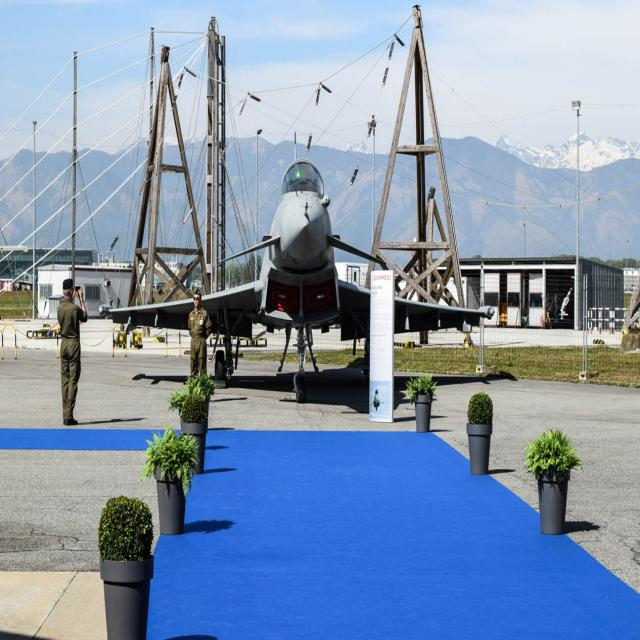MIL_Plane: (97, 130, 495, 403)
